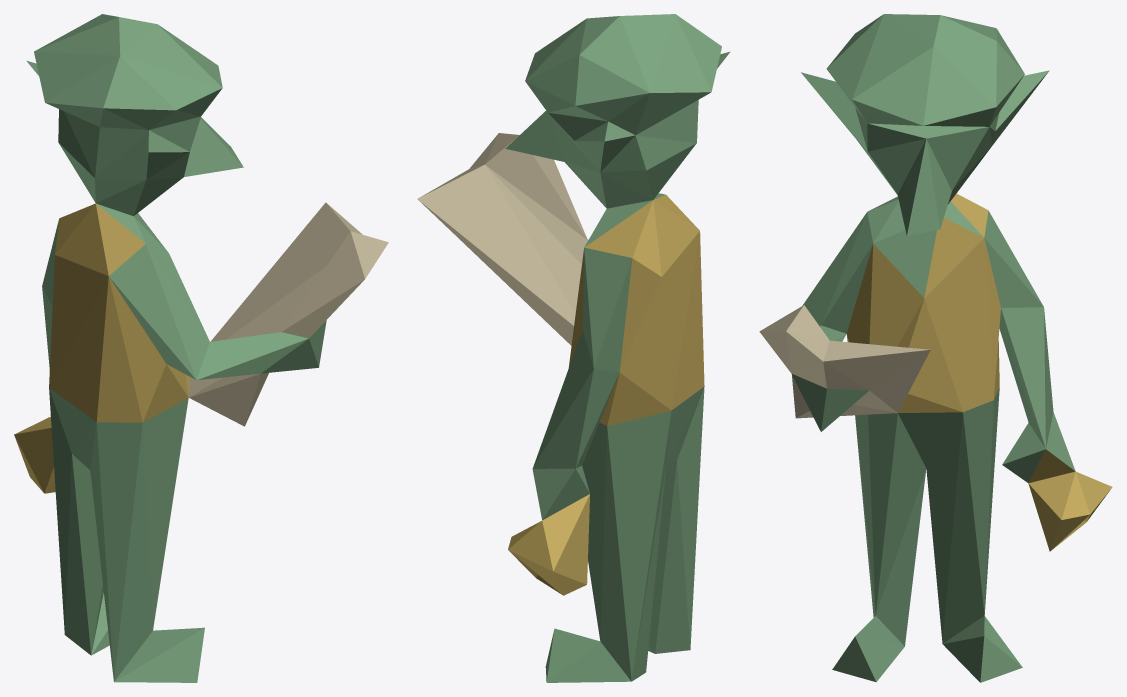
3 renders of one model, left to right at view 1: azimuth 30°, elevation 25°; view 2: azimuth 150°, elevation 25°; view 3: azimuth 270°, elevation 25°, orthographic. The views are drawn at different scales.
Parts seen in each view (by area): view 1: lion-200.001; view 2: lion-200.001; view 3: lion-200.001.
Part boxes in pixels (<box>): lion-200.001: <box>14,14,388,682</box>; lion-200.001: <box>417,14,730,682</box>; lion-200.001: <box>759,14,1112,682</box>.
Size of the model in its own units: 0.4799 by 1.02 by 0.5053.
